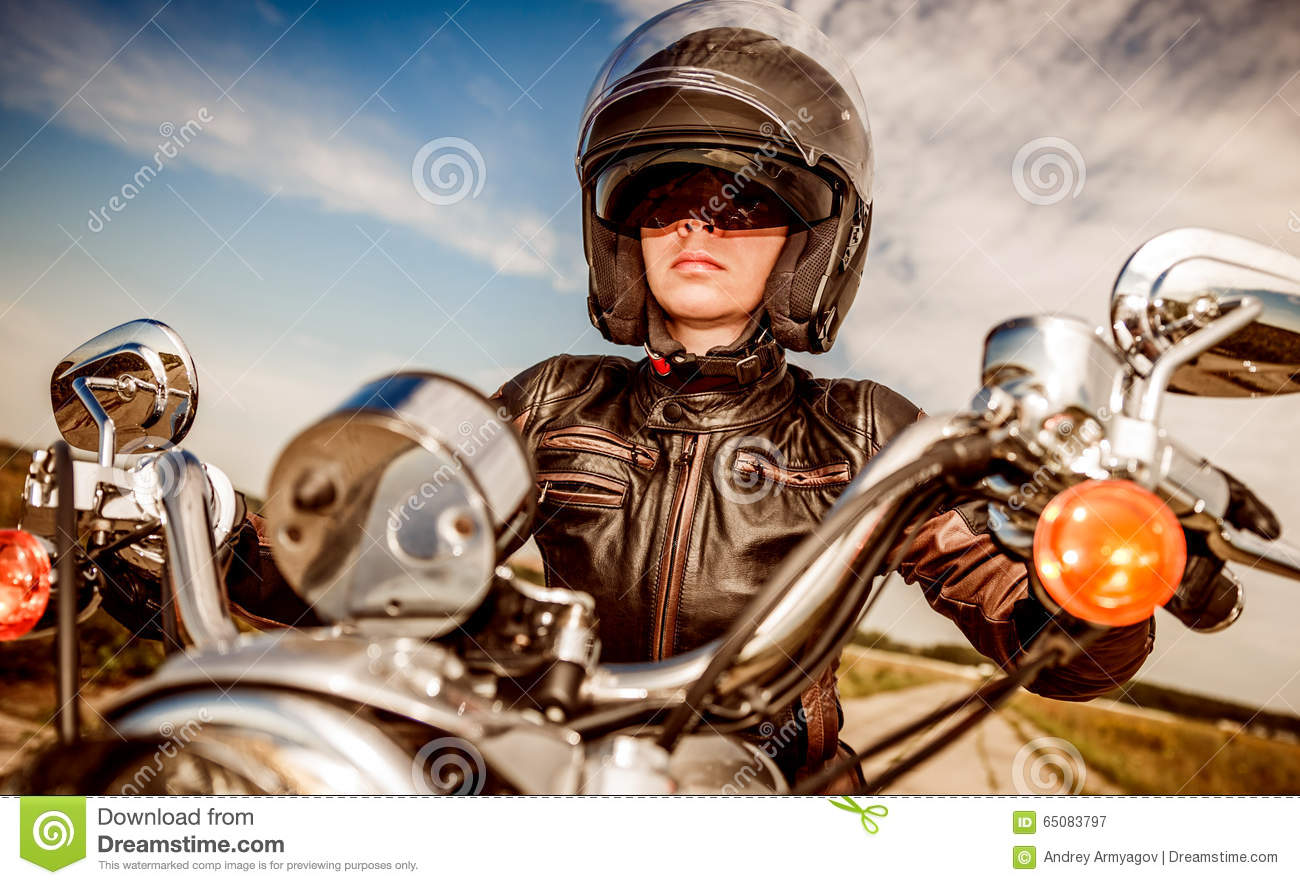helmet: (553, 39, 881, 353)
